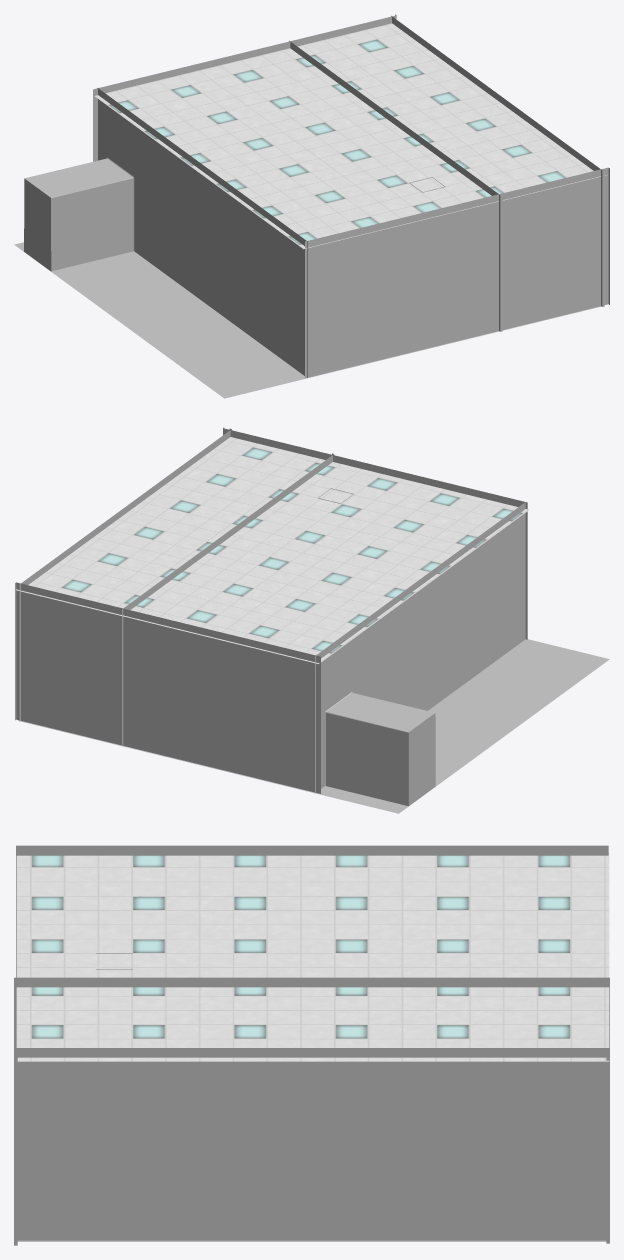
File: fatter_office.gltf
3 views of the same model, one above another, from view 1: azimuth 30°, elevation 25°; view 2: azimuth 150°, elevation 25°; view 3: azimuth 270°, elevation 25° (orthographic). The views are drawn at different scales.
Parts seen in each view (by area): view 1: SM_Roof, SM_BackWall, SM_LeftWall, SM_Floor, SM_FrontWall, SM_RightWall.001, SM_RightWall; view 2: SM_Roof, SM_FrontWall, SM_LeftWall, SM_Floor, SM_BackWall, SM_RightWall, SM_RightWall.001; view 3: SM_Roof, SM_RightWall, SM_RightWall.001, SM_LeftWall, SM_Floor, SM_BackWall, SM_FrontWall.
Part boxes in pixels (x1=…): SM_Roof: x1=94, y1=23, x2=606, y2=249; SM_BackWall: x1=305, y1=167, x2=609, y2=378; SM_LeftWall: x1=24, y1=88, x2=307, y2=377; SM_Floor: x1=14, y1=242, x2=601, y2=398; SM_FrontWall: x1=93, y1=14, x2=396, y2=161; SM_RightWall.001: x1=289, y1=40, x2=502, y2=331; SM_RightWall: x1=391, y1=16, x2=604, y2=306; SM_Roof: x1=14, y1=437, x2=529, y2=663; SM_FrontWall: x1=15, y1=582, x2=320, y2=793; SM_LeftWall: x1=315, y1=502, x2=525, y2=806; SM_Floor: x1=18, y1=639, x2=609, y2=813; SM_BackWall: x1=223, y1=427, x2=527, y2=639; SM_RightWall: x1=19, y1=428, x2=231, y2=721; SM_RightWall.001: x1=122, y1=453, x2=334, y2=746; SM_Roof: x1=16, y1=853, x2=609, y2=1061; SM_RightWall: x1=14, y1=1048, x2=609, y2=1240; SM_RightWall.001: x1=14, y1=977, x2=609, y2=1047; SM_LeftWall: x1=16, y1=845, x2=608, y2=977; SM_Floor: x1=17, y1=1240, x2=606, y2=1241; SM_BackWall: x1=14, y1=1053, x2=17, y2=1245; SM_FrontWall: x1=606, y1=1051, x2=609, y2=1243.
Size of the model in its own units: 10.14 by 3.46 by 9.65.
